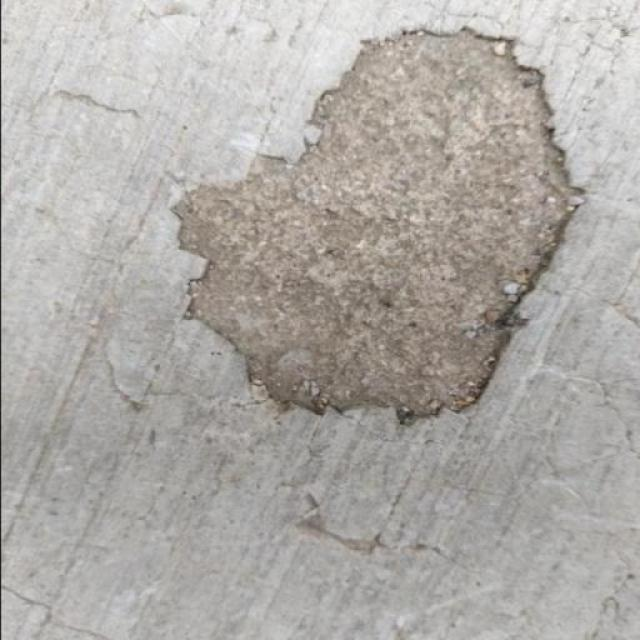D10: (172, 26, 584, 425)
